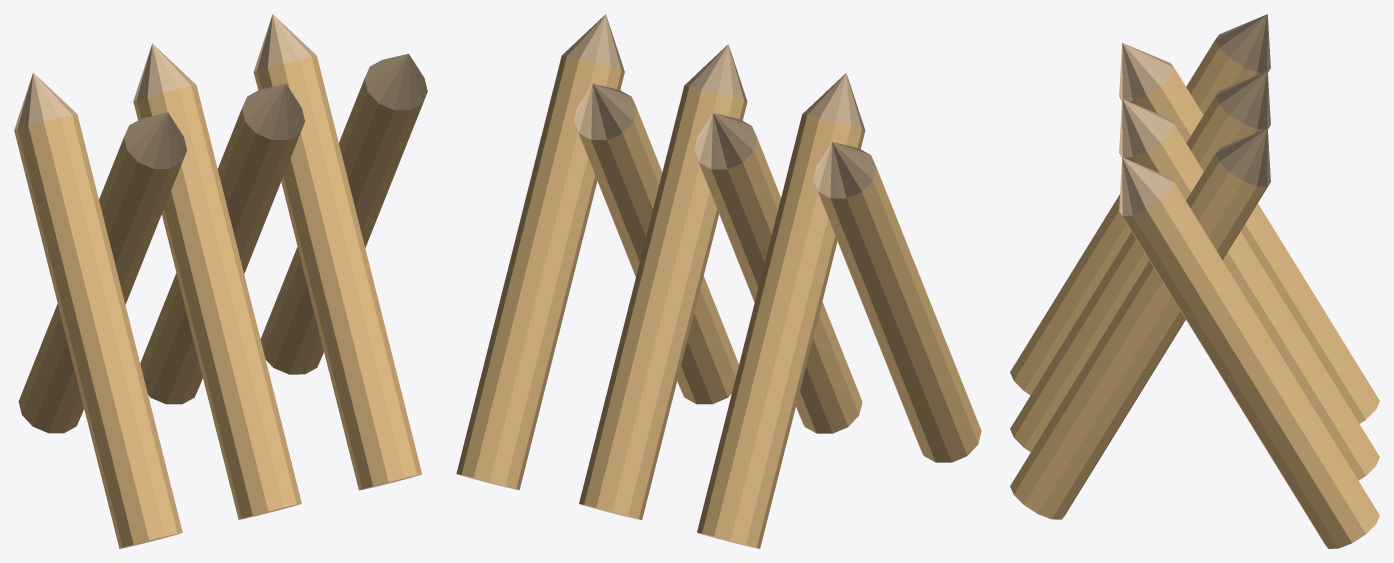
File: pine_barricade.glb
The picture shows the model from 3 angles, left to right: view 1: azimuth 30°, elevation 25°; view 2: azimuth 150°, elevation 25°; view 3: azimuth 270°, elevation 25°; orthographic projection. The views are drawn at different scales.
Visible parts, largest first — view 1: pine_barricade; view 2: pine_barricade; view 3: pine_barricade.
Boxes of the visible parts, x1,y1,x2,y2 form: pine_barricade: (14,14,427,548); pine_barricade: (456,14,981,548); pine_barricade: (1010,14,1379,548).
Bounding box in the file's own units: 0.8966 × 0.9505 × 0.8236.
